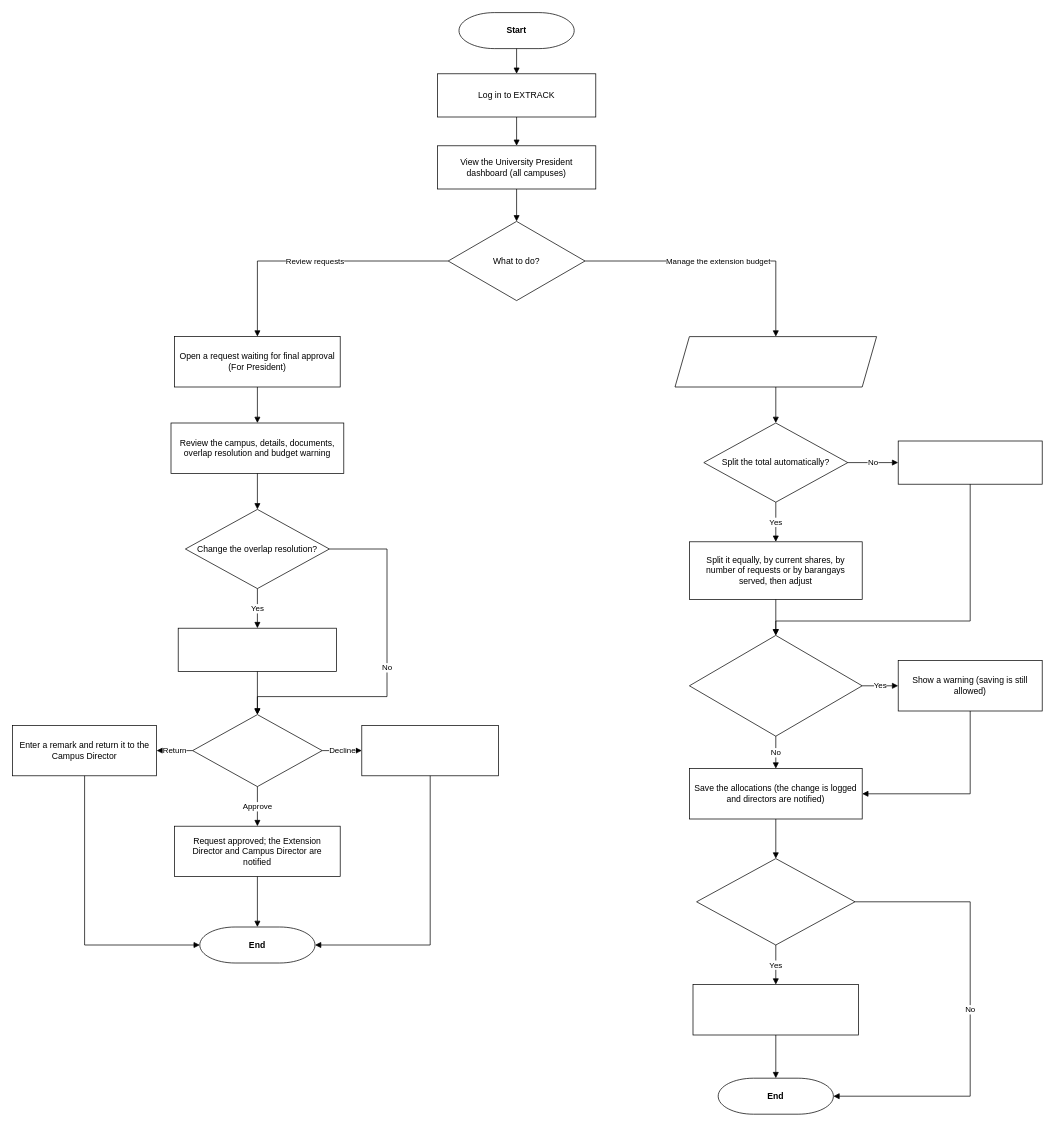
Some shapes in this 1055 by 1127 pixel diagram are drawn without their labels. Here are the shapes that lost their labels. From the top down, the centre of each, then its label:
point 775,361: Enter the university extension budget for the year
point 969,462: Enter each campus's allocation
point 257,649: Update the overlap resolution
point 775,685: Allocations over the total or below committed?
point 257,750: Decision?
point 430,750: Enter a remark; request closed (Declined)
point 775,901: Campus needs more this year?
point 775,1009: Top up from the university reserve, with a reason
